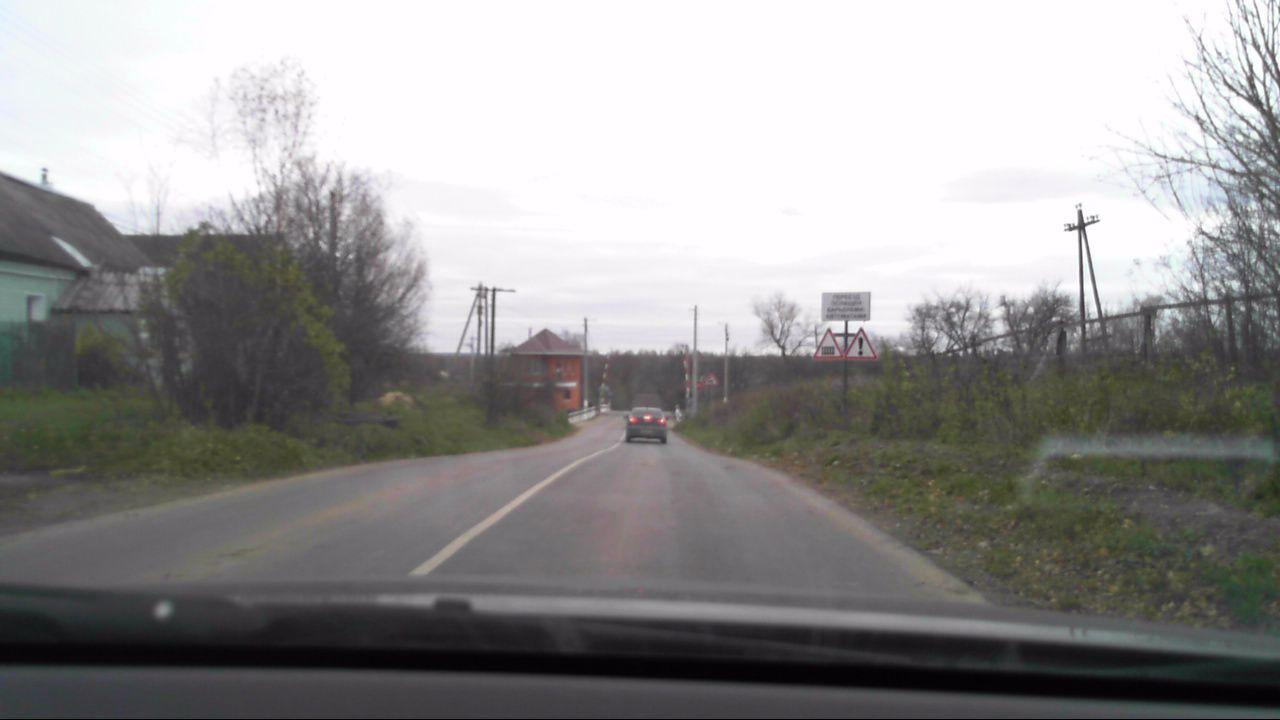1_1: (812, 327, 841, 358)
1_33: (843, 326, 874, 360)
